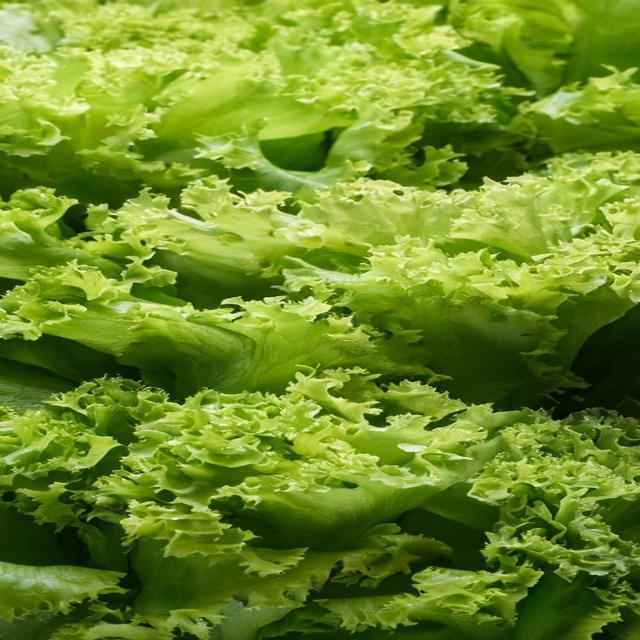lettuce: (0, 0, 639, 639), (0, 370, 639, 639)
